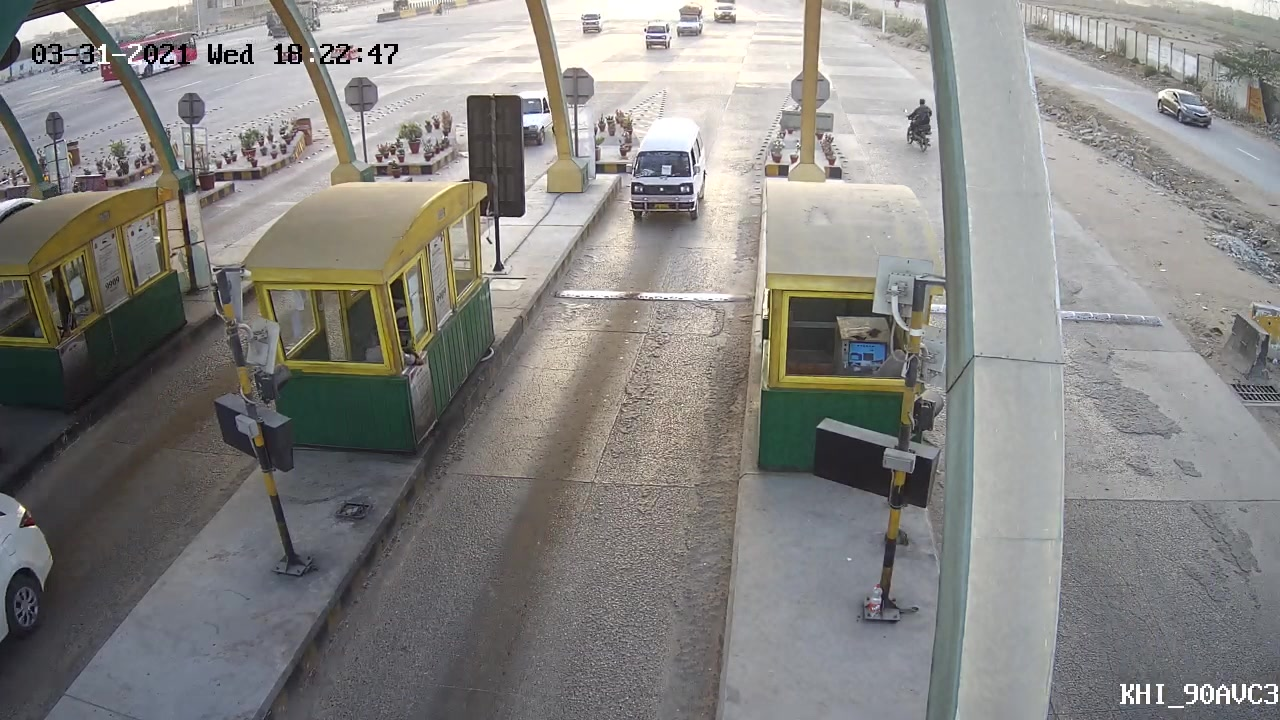F1: (609, 100, 714, 224)
